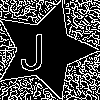J: (19, 25, 46, 70)
